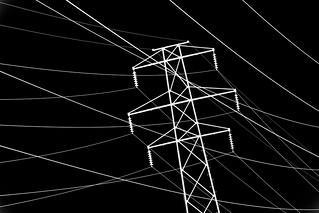power_tower: (123, 41, 242, 213)
